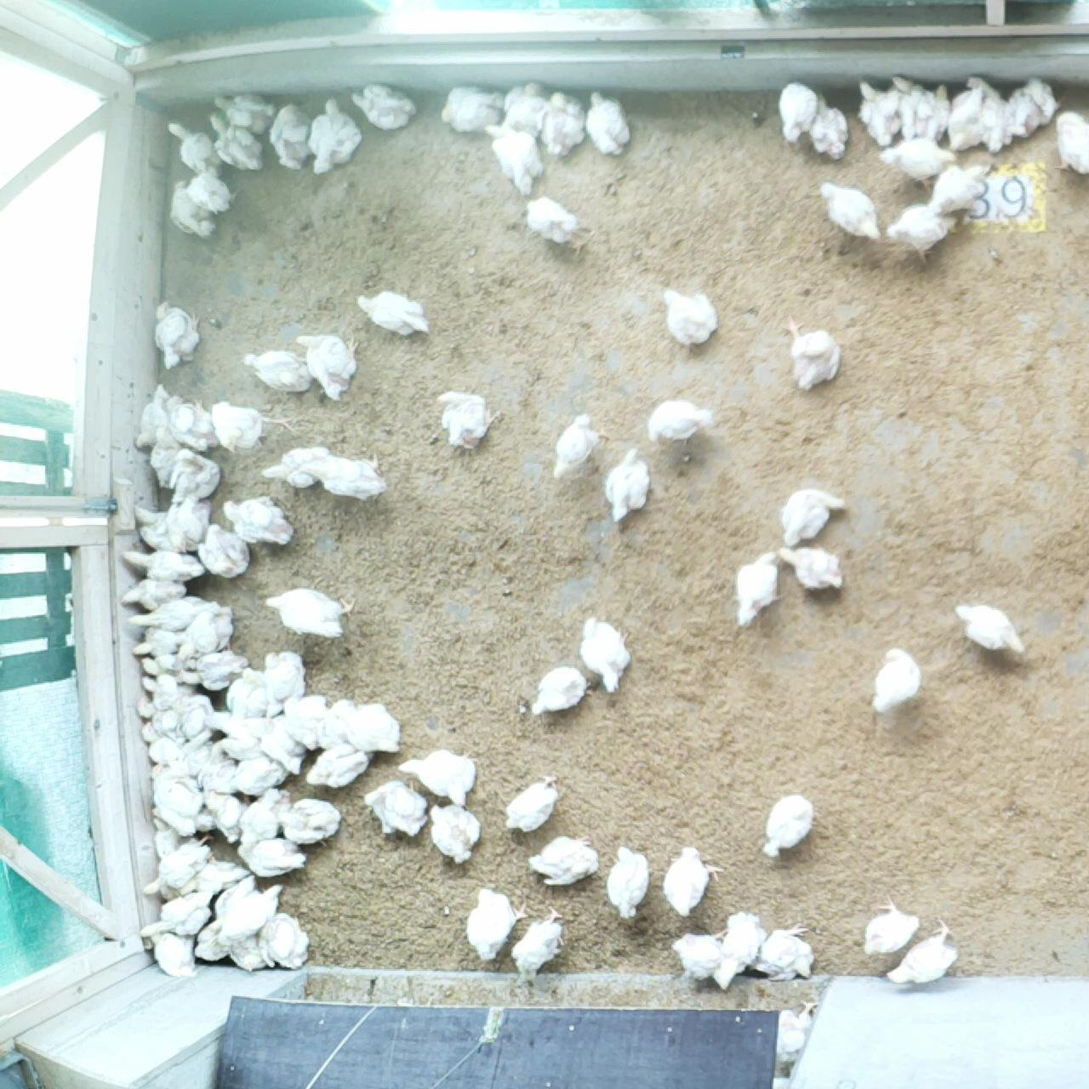chicken: (190, 704, 268, 759), (892, 199, 956, 263), (298, 334, 362, 398), (892, 921, 961, 980), (787, 317, 842, 390), (483, 124, 542, 192), (299, 456, 388, 501), (952, 601, 1023, 657), (580, 613, 628, 694), (818, 180, 878, 244), (217, 882, 281, 942), (263, 589, 354, 631), (401, 750, 476, 800), (781, 487, 847, 543), (762, 794, 817, 860), (140, 769, 199, 830), (354, 289, 428, 337), (878, 134, 955, 180), (311, 98, 360, 169), (149, 299, 201, 365), (365, 782, 428, 836), (442, 77, 501, 133), (870, 647, 919, 714), (436, 391, 499, 443), (776, 544, 842, 593), (663, 844, 709, 914), (530, 836, 593, 887), (659, 288, 715, 345), (165, 119, 225, 172), (758, 926, 818, 979), (526, 195, 588, 246), (469, 887, 514, 957), (209, 113, 265, 169), (608, 448, 652, 518), (767, 1003, 822, 1058), (131, 384, 180, 445), (194, 786, 246, 843), (237, 837, 307, 879), (224, 499, 295, 540), (720, 912, 761, 983), (338, 701, 402, 746), (271, 101, 315, 166), (863, 901, 918, 953), (607, 845, 645, 919), (514, 917, 560, 978), (644, 399, 706, 444), (120, 546, 202, 580), (152, 847, 212, 893), (428, 805, 479, 859), (166, 180, 216, 235), (284, 796, 337, 847), (264, 715, 309, 775), (146, 893, 215, 932), (354, 86, 419, 127), (128, 505, 187, 550), (209, 93, 277, 132), (203, 525, 252, 579), (888, 71, 929, 135), (261, 449, 330, 487), (931, 159, 982, 210), (738, 550, 773, 624), (209, 399, 265, 445), (974, 74, 1007, 152), (505, 80, 554, 132), (854, 79, 895, 141), (172, 445, 219, 499), (167, 394, 213, 449), (240, 351, 310, 387), (552, 416, 597, 471), (136, 600, 218, 630), (530, 669, 585, 713), (176, 693, 220, 748), (949, 85, 989, 145), (545, 89, 581, 155), (262, 653, 304, 709), (265, 911, 307, 967), (237, 788, 282, 840), (287, 695, 334, 744), (592, 90, 630, 150), (182, 171, 236, 212), (670, 933, 724, 974), (1055, 109, 1089, 174), (184, 607, 232, 653), (510, 778, 555, 827), (308, 749, 369, 785), (124, 579, 190, 612), (137, 691, 185, 734), (813, 90, 845, 154), (781, 79, 812, 140), (140, 821, 191, 858), (196, 650, 248, 686), (231, 755, 282, 791), (168, 502, 208, 547), (225, 670, 265, 715), (153, 934, 198, 973), (226, 926, 264, 971), (154, 433, 182, 491), (149, 741, 199, 772), (1004, 92, 1037, 136), (925, 82, 951, 135), (197, 927, 231, 965), (1029, 78, 1056, 122), (139, 660, 184, 686), (134, 628, 180, 653)
